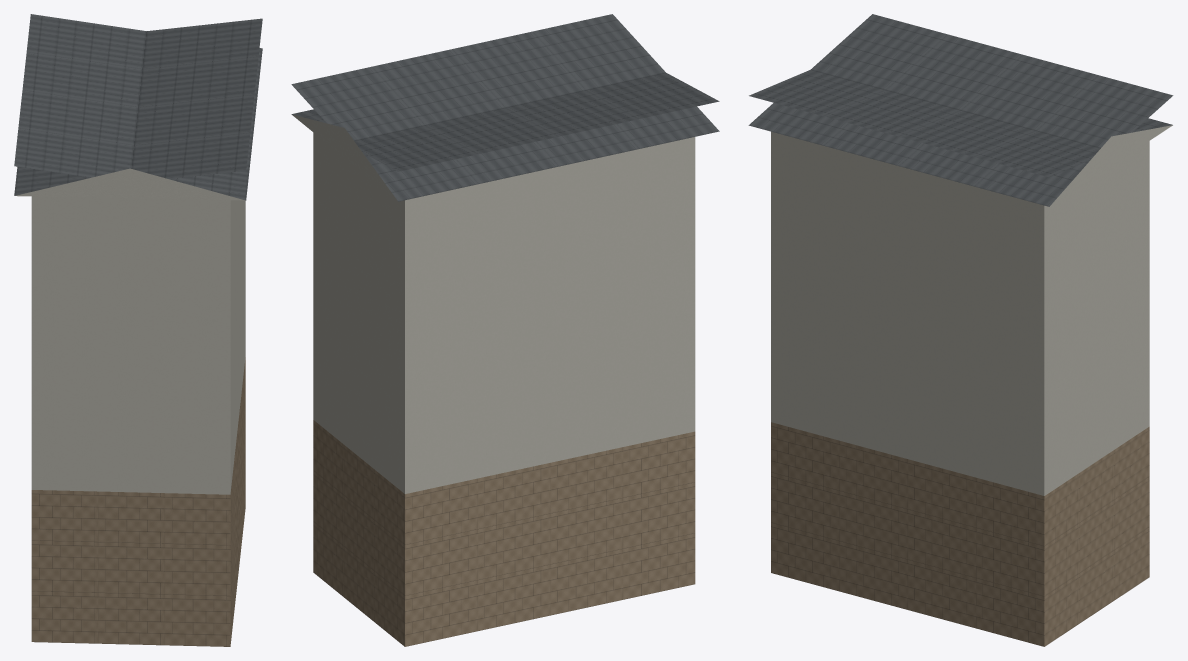
The model's file is bld_c3_16_462.gltf.
3 renders of one model, left to right at view 1: azimuth 30°, elevation 25°; view 2: azimuth 150°, elevation 25°; view 3: azimuth 270°, elevation 25°, orthographic.
Parts seen in each view (by area): view 1: bld_c3_16_462; view 2: bld_c3_16_462; view 3: bld_c3_16_462.
Boxes of the visible parts, left/top/right/bottom form: bld_c3_16_462: left=14, top=14, right=262, bottom=646; bld_c3_16_462: left=291, top=14, right=719, bottom=646; bld_c3_16_462: left=748, top=14, right=1173, bottom=646.
Bounding box in the file's own units: 11.84 × 16.2 × 13.03.
4 materials, 4 textured.
